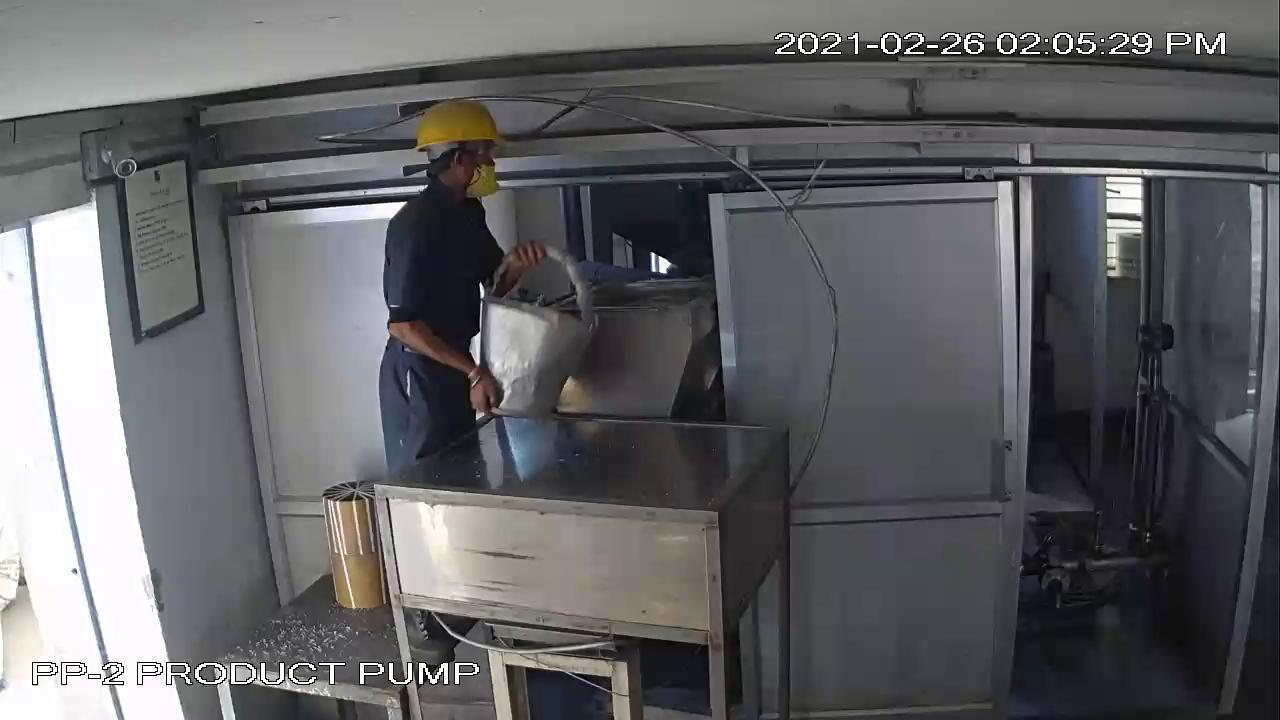helmet: (403, 96, 522, 179)
